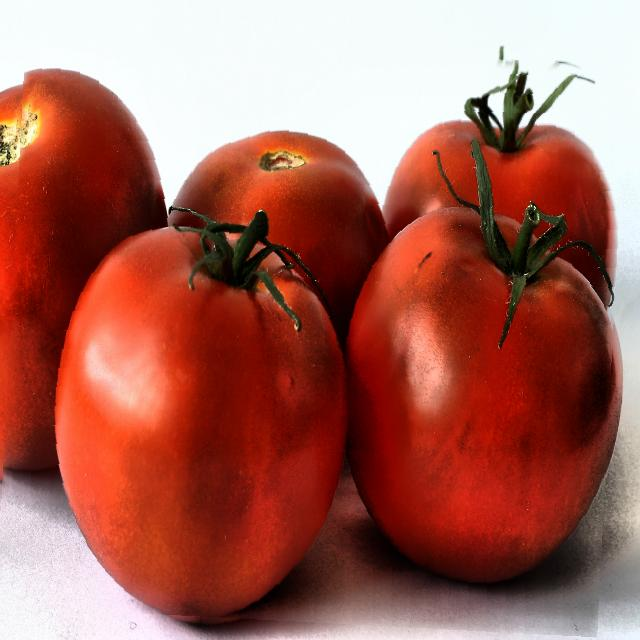tomato: (3, 43, 619, 630)
